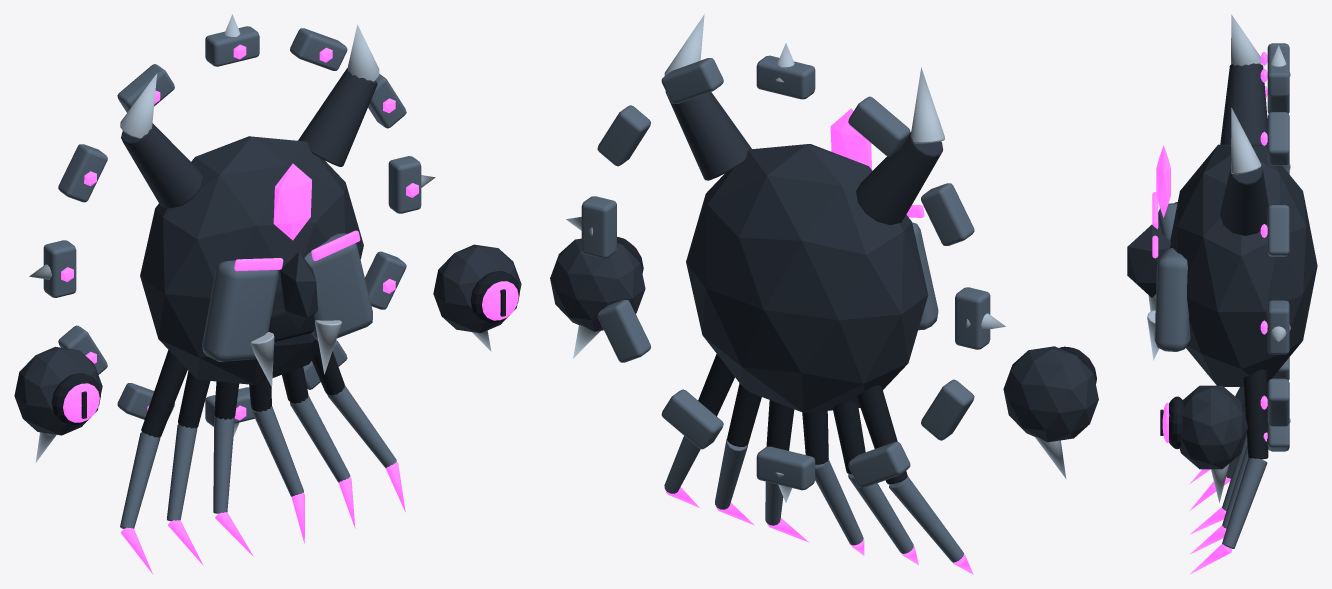
File: Rootkit_Overlord.fbx
3 renders of one model, left to right at view 1: azimuth 30°, elevation 25°; view 2: azimuth 150°, elevation 25°; view 3: azimuth 270°, elevation 25°, orthographic. The views are drawn at different scales.
Parts seen in each view (by area): view 1: Floating core, Oni cheek, Oni cheek.001, Satellite shell, Satellite shell.001, Oni horn base.001, Oni horn base, Forehead crest, Nose blade, Root cable upper 00, Root cable lower 00, Root cable lower 02 (+29 smaller); view 2: Floating core, Satellite shell, Satellite shell.001, Oni horn base, Oni horn base.001, Halo node 11, Halo node 05, Halo node 10, Halo node 04, Halo node 00, Halo node 09, Halo node 03 (+21 smaller); view 3: Floating core, Satellite shell.001, Oni cheek.001, Oni horn base, Oni horn base.001, Root cable upper 05, Nose blade, Root cable lower 05, Halo node 02, Halo node 01, Oni horn blade.001, Halo node 11 (+15 smaller).
Part boxes in pixels (x1=…): Floating core: x1=140, y1=136, x2=363, y2=384; Oni cheek: x1=202, y1=260, x2=278, y2=361; Oni cheek.001: x1=304, y1=233, x2=372, y2=340; Satellite shell: x1=14, y1=346, x2=102, y2=435; Satellite shell.001: x1=433, y1=244, x2=521, y2=333; Oni horn base.001: x1=298, y1=68, x2=377, y2=166; Oni horn base: x1=121, y1=123, x2=202, y2=208; Forehead crest: x1=273, y1=163, x2=311, y2=240; Nose blade: x1=280, y1=252, x2=318, y2=328; Root cable upper 00: x1=141, y1=350, x2=187, y2=437; Root cable lower 00: x1=120, y1=432, x2=160, y2=528; Root cable lower 02: x1=213, y1=416, x2=234, y2=513; Floating core: x1=686, y1=144, x2=928, y2=412; Satellite shell: x1=1003, y1=346, x2=1098, y2=442; Satellite shell.001: x1=550, y1=238, x2=645, y2=331; Oni horn base: x1=856, y1=132, x2=943, y2=225; Oni horn base.001: x1=665, y1=91, x2=751, y2=180; Halo node 11: x1=597, y1=300, x2=650, y2=362; Halo node 05: x1=921, y1=183, x2=974, y2=245; Halo node 10: x1=661, y1=389, x2=723, y2=449; Halo node 04: x1=848, y1=96, x2=910, y2=156; Halo node 00: x1=581, y1=196, x2=616, y2=258; Halo node 09: x1=756, y1=446, x2=815, y2=490; Halo node 03: x1=756, y1=55, x2=815, y2=99; Floating core: x1=1170, y1=144, x2=1317, y2=386; Satellite shell.001: x1=1179, y1=385, x2=1248, y2=469; Oni cheek.001: x1=1154, y1=248, x2=1190, y2=351; Oni horn base: x1=1220, y1=63, x2=1267, y2=147; Oni horn base.001: x1=1220, y1=166, x2=1268, y2=235; Root cable upper 05: x1=1243, y1=369, x2=1268, y2=459; Nose blade: x1=1127, y1=224, x2=1170, y2=297; Root cable lower 05: x1=1222, y1=457, x2=1267, y2=548; Halo node 02: x1=1267, y1=112, x2=1289, y2=165; Halo node 01: x1=1267, y1=205, x2=1289, y2=256; Oni horn blade.001: x1=1231, y1=107, x2=1261, y2=174; Halo node 11: x1=1267, y1=378, x2=1289, y2=426.
Size of the model in its own units: 321 by 312 by 112.
